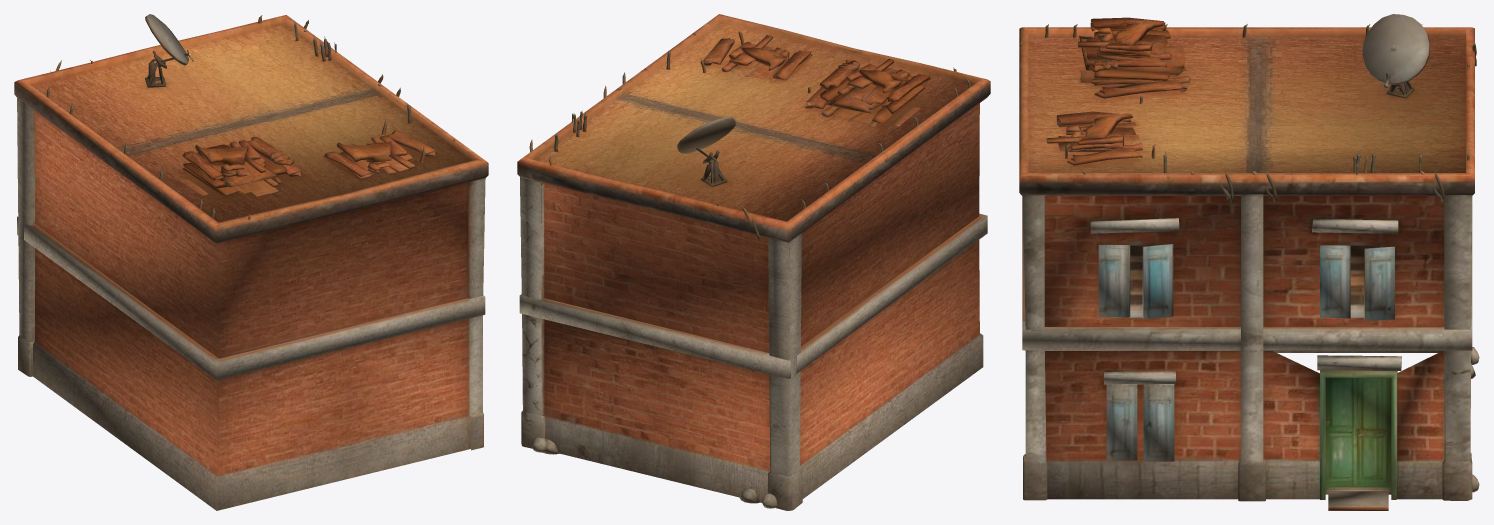
The model's file is village_house.glb.
The picture shows the model from 3 angles, left to right: view 1: azimuth 30°, elevation 25°; view 2: azimuth 150°, elevation 25°; view 3: azimuth 270°, elevation 25°; orthographic projection. The views are drawn at different scales.
Parts seen in each view (by area): view 1: tripo_node_d82cbcb2-1b52-4c79-9dc4-c48ef2463a2e; view 2: tripo_node_d82cbcb2-1b52-4c79-9dc4-c48ef2463a2e; view 3: tripo_node_d82cbcb2-1b52-4c79-9dc4-c48ef2463a2e.
Boxes of the visible parts, box(x1,y1,x2,y2) form: tripo_node_d82cbcb2-1b52-4c79-9dc4-c48ef2463a2e: box(14, 14, 488, 510); tripo_node_d82cbcb2-1b52-4c79-9dc4-c48ef2463a2e: box(517, 14, 990, 510); tripo_node_d82cbcb2-1b52-4c79-9dc4-c48ef2463a2e: box(1019, 14, 1479, 510).
Bounding box in the file's own units: 0.8223 × 0.9395 × 0.998.
1 material, 1 textured.
